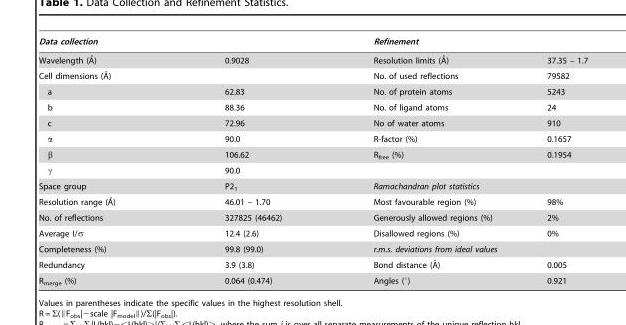table: (37, 36, 587, 285)
table column: (326, 36, 521, 285), (169, 36, 326, 285), (37, 36, 169, 285), (521, 36, 587, 285)
table column header: (37, 36, 587, 49)
table row: (37, 49, 587, 67), (37, 255, 587, 272), (37, 67, 587, 83), (37, 83, 587, 99), (37, 99, 587, 115), (37, 130, 587, 146), (37, 146, 587, 162), (37, 162, 587, 178), (37, 193, 587, 209), (37, 209, 587, 225), (37, 225, 587, 241), (37, 115, 587, 130), (37, 178, 587, 193), (37, 241, 587, 255), (37, 36, 587, 49), (37, 272, 587, 285)
